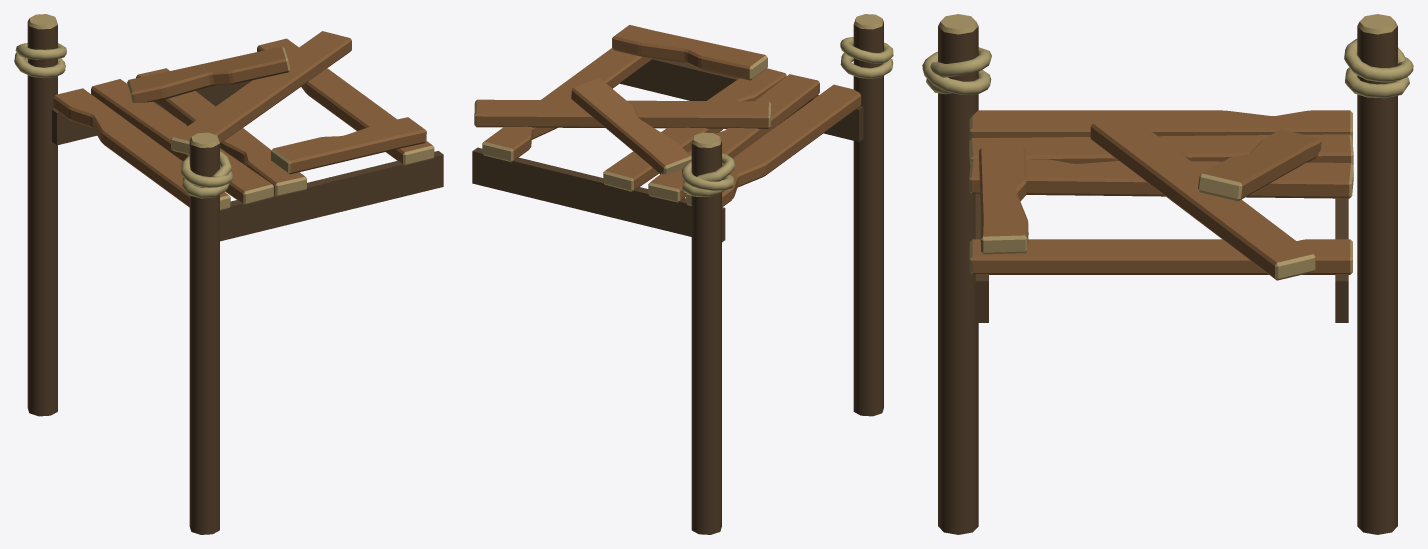
File: dock-broken.glb
3 renders of one model, left to right at view 1: azimuth 30°, elevation 25°; view 2: azimuth 150°, elevation 25°; view 3: azimuth 270°, elevation 25°, orthographic. The views are drawn at different scales.
Parts seen in each view (by area): view 1: Environment_Dock_Broken; view 2: Environment_Dock_Broken; view 3: Environment_Dock_Broken.
Part boxes in pixels (x1,y1,x2,y2): Environment_Dock_Broken: [14, 14, 443, 534]; Environment_Dock_Broken: [472, 14, 893, 534]; Environment_Dock_Broken: [922, 14, 1413, 534].
Size of the model in its own units: 2.38 by 3.01 by 2.66.
Materials: 1 (1 with a texture image).
